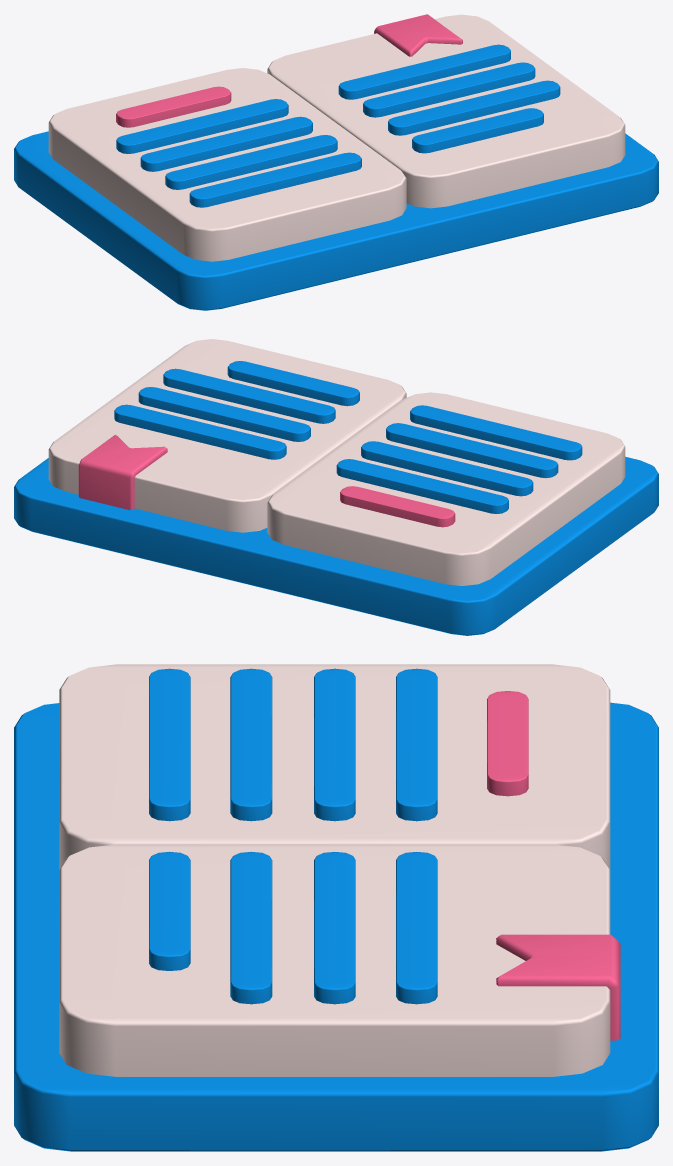
Rendered from Public_8_Book_1.glb.
3 views of the same model, one above another, from view 1: azimuth 30°, elevation 25°; view 2: azimuth 150°, elevation 25°; view 3: azimuth 270°, elevation 25° (orthographic). The views are drawn at different scales.
Parts seen in each view (by area): view 1: Public_8_Book_1; view 2: Public_8_Book_1; view 3: Public_8_Book_1.
Boxes of the visible parts, x1,y1,x2,y2 form: Public_8_Book_1: [14, 14, 658, 310]; Public_8_Book_1: [14, 339, 658, 635]; Public_8_Book_1: [14, 664, 658, 1151].
Bounding box in the file's own units: 2.54 × 0.3867 × 1.76.
Materials: 1 (1 with a texture image).
